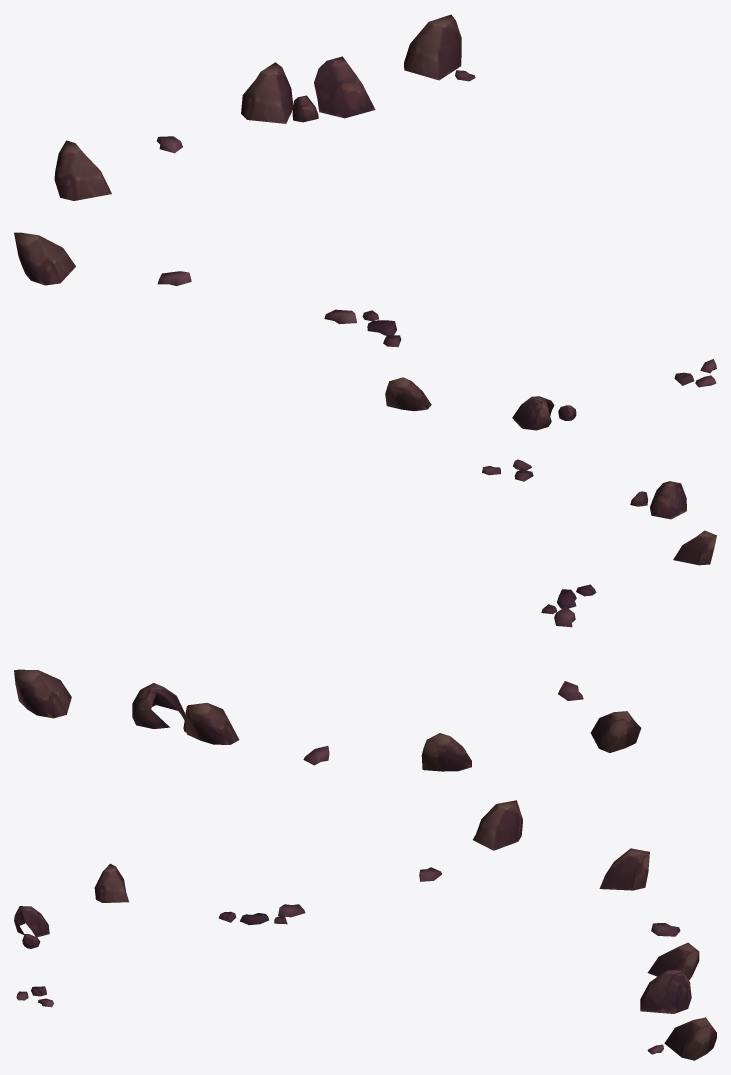
Rendered from area_03_shitou.FBX.
3 renders of one model, top to bottom at view 1: azimuth 30°, elevation 25°; view 2: azimuth 150°, elevation 25°; view 3: azimuth 270°, elevation 25°, orthographic. The views are drawn at different scales.
Visible parts, largest first — view 1: area_03_shitou; view 2: area_03_shitou; view 3: area_03_shitou.
Boxes of the visible parts, <box> form: area_03_shitou: <box>14,14,716,430</box>; area_03_shitou: <box>14,459,716,771</box>; area_03_shitou: <box>14,800,716,1060</box>.
Bounding box in the file's own units: 3286 × 250 × 4219.
